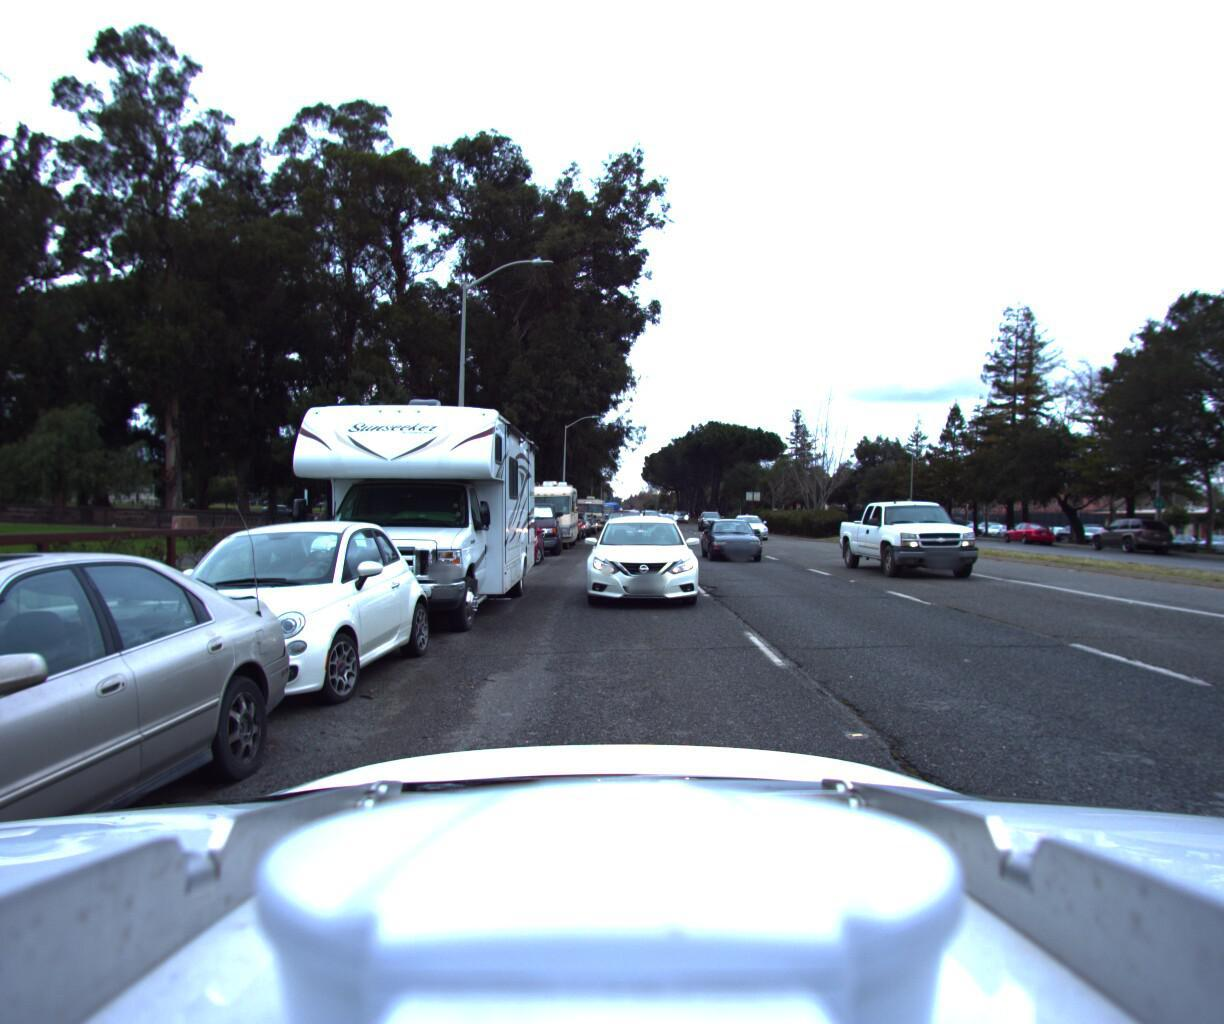car: (0, 537, 313, 1024), (113, 519, 428, 712), (845, 503, 1015, 598), (582, 518, 716, 625), (476, 522, 549, 576), (499, 509, 565, 566), (1086, 524, 1176, 564), (702, 523, 775, 570), (541, 518, 583, 555), (1000, 531, 1058, 554), (736, 520, 776, 550), (699, 522, 724, 545), (656, 523, 679, 544)
other_vehicle: (257, 372, 541, 648), (517, 487, 580, 562), (570, 503, 607, 541)
